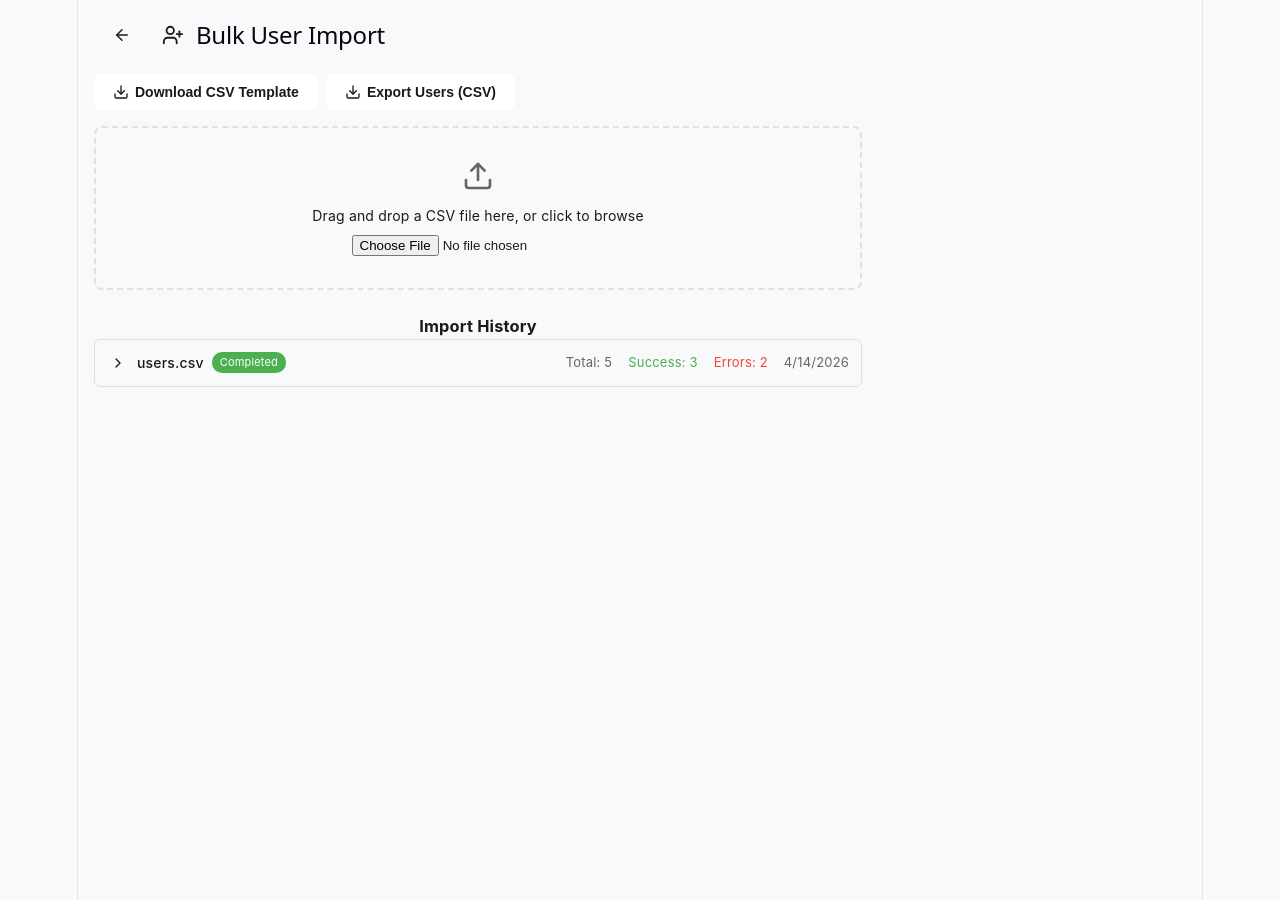
Scenario: BulkImportManager › expands import to show error details when clicked
Click the button titled "Toggle errors".
click(118, 363)  # box [107,352,129,374]
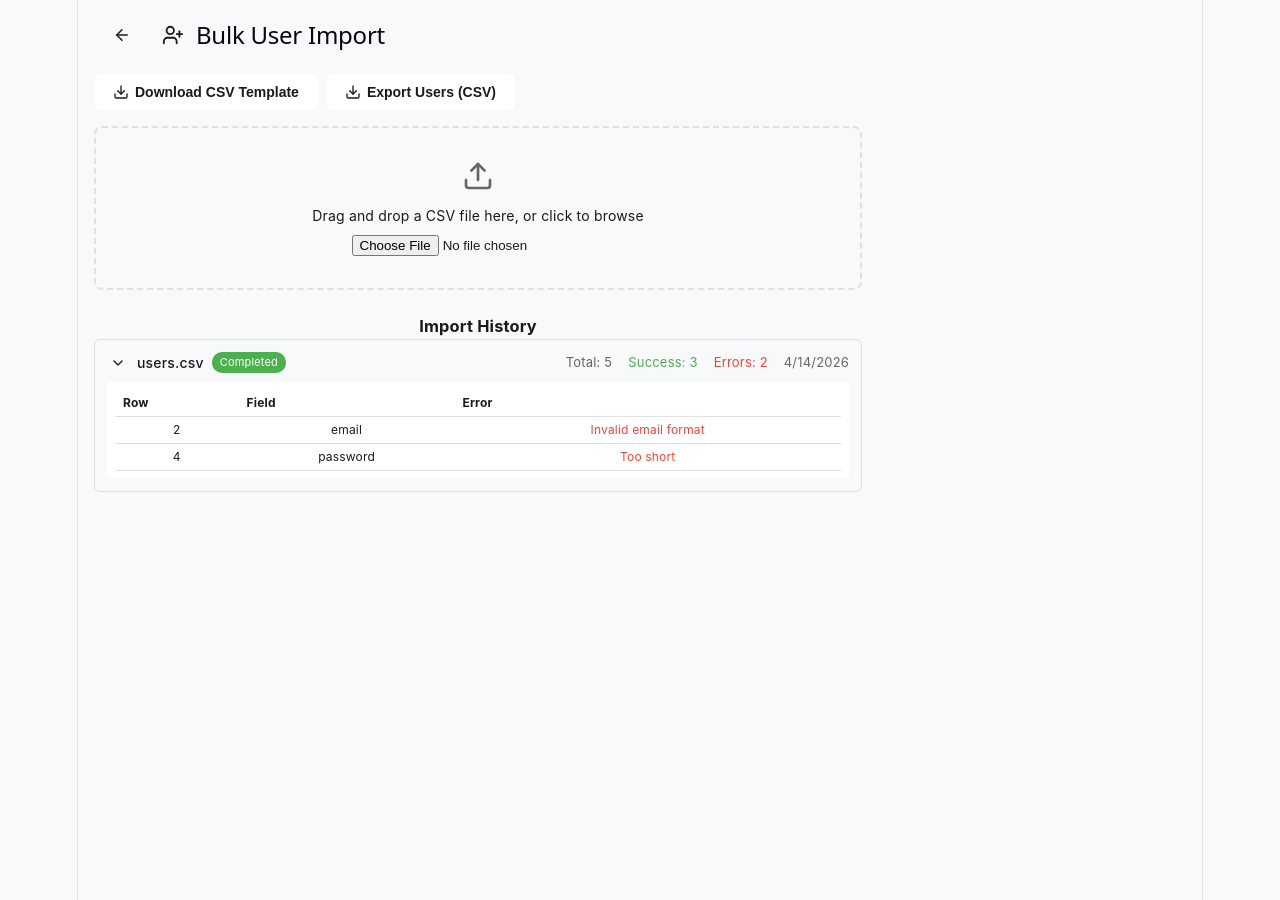
Expected: the text "Invalid email format" is shown, [454,416,841,443]
Expected: the text "Too short" is shown, [454,443,841,470]
